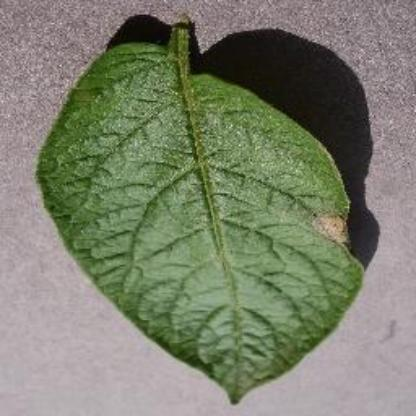Late-Blight: (26, 16, 374, 410)
